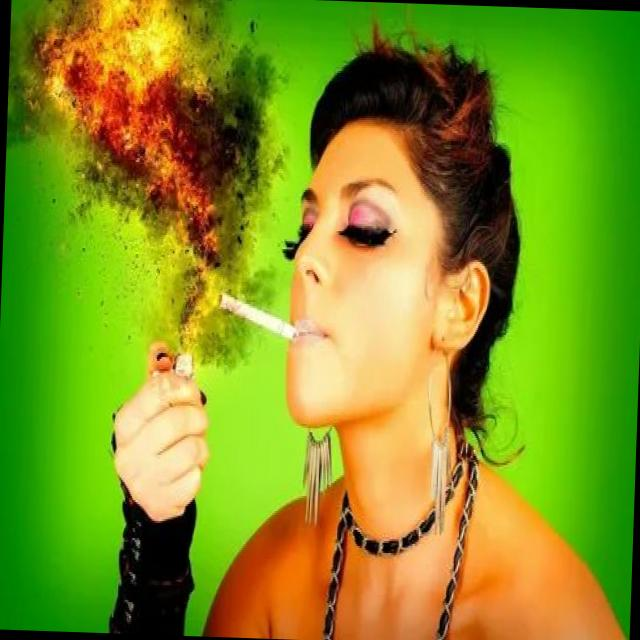cigarette: (215, 286, 302, 352)
